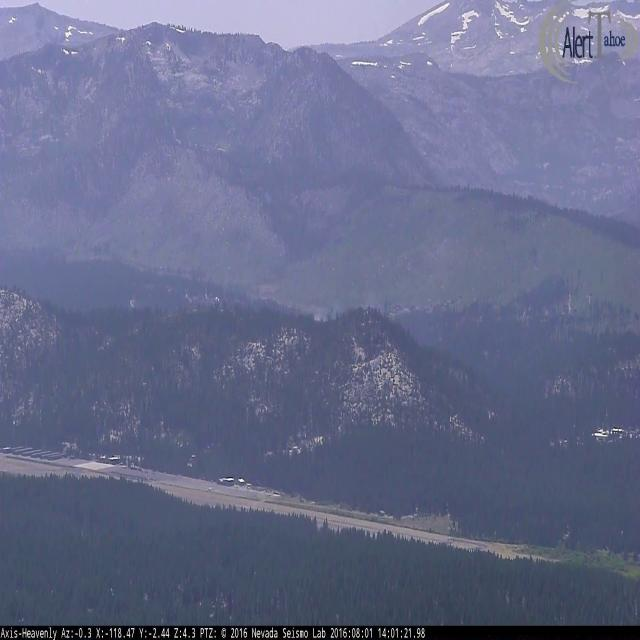smoke: (310, 282, 417, 328)
